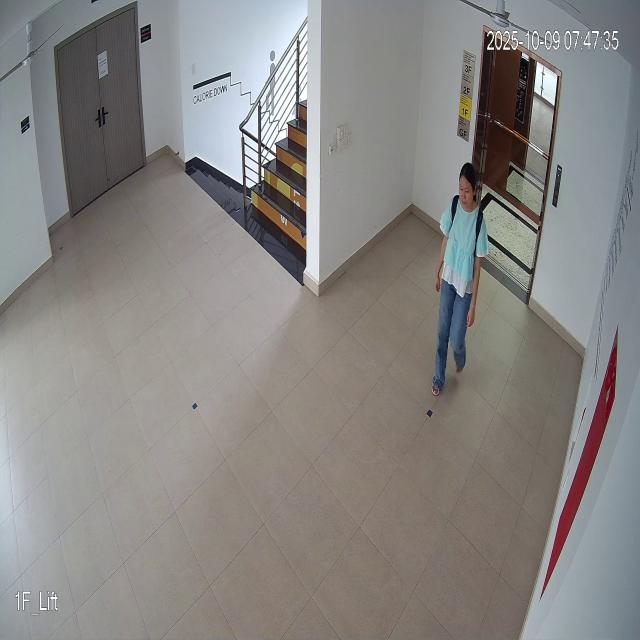face: (456, 154, 479, 219)
